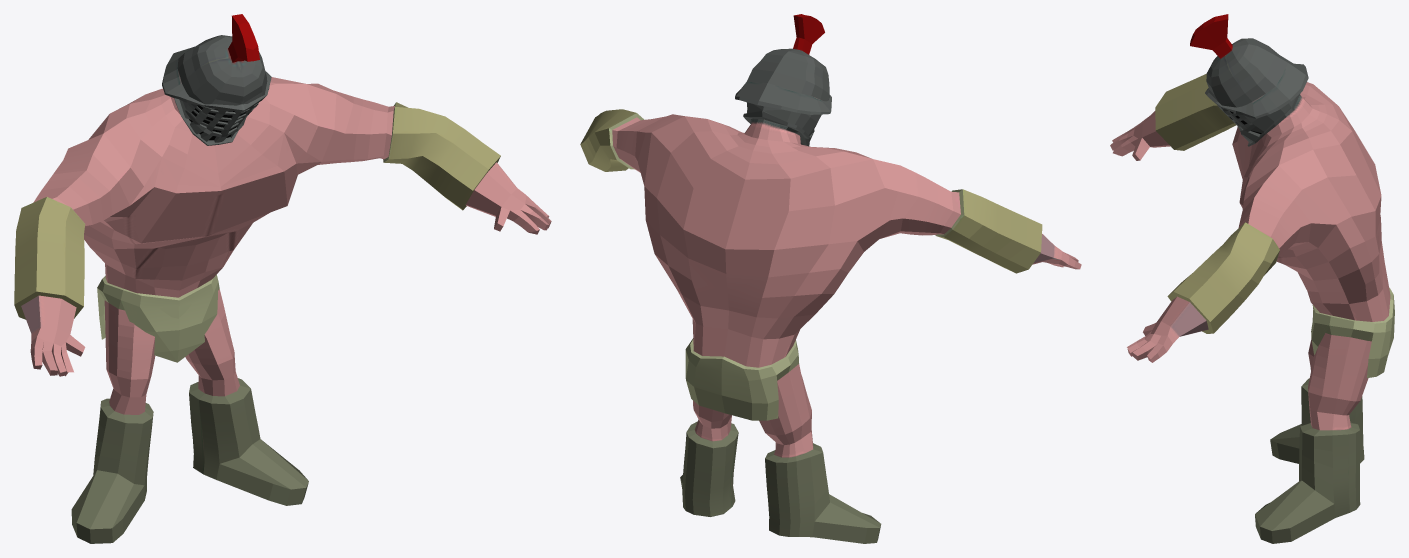
Rendered from GladiatorCelebracion_000519.obj.
3 views of the same model, side by side, from view 1: azimuth 30°, elevation 25°; view 2: azimuth 150°, elevation 25°; view 3: azimuth 270°, elevation 25° (orthographic). The views are drawn at different scales.
Visible parts, largest first — view 1: Gadiador_Gladiador_H; view 2: Gadiador_Gladiador_H; view 3: Gadiador_Gladiador_H.
Boxes of the visible parts, <box> form: Gadiador_Gladiador_H: <box>14,14,551,543</box>; Gadiador_Gladiador_H: <box>580,14,1081,543</box>; Gadiador_Gladiador_H: <box>1110,14,1394,543</box>.
Bounding box in the file's own units: 7.4 × 7.02 × 3.73.
Materials: 1 (1 with a texture image).
